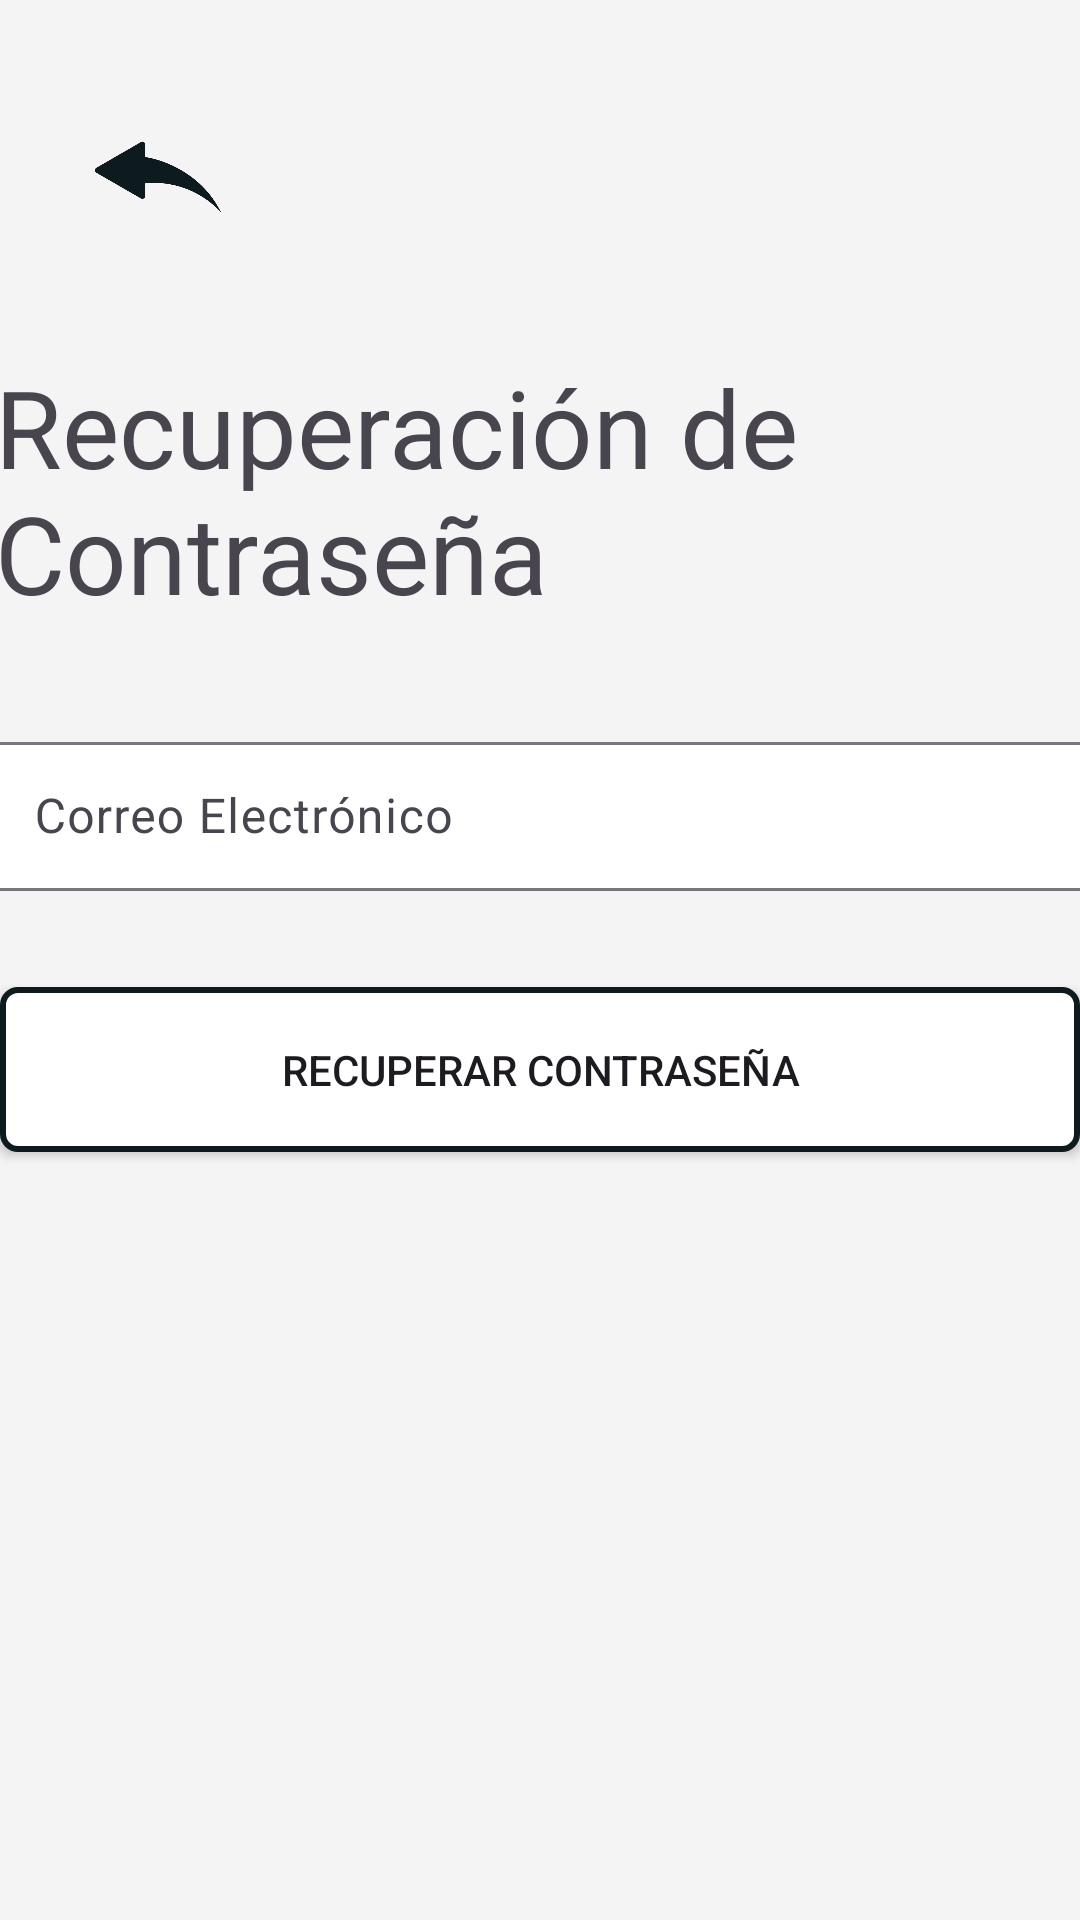

Screen size 1080px×1920px. Icon name, then its center in pixels as [x,y]:
regreso: [158,176]
